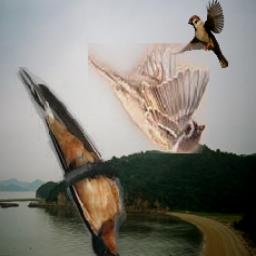Sparrow: (89, 43, 210, 153), (168, 0, 228, 68)
Swallow: (13, 67, 127, 256)
